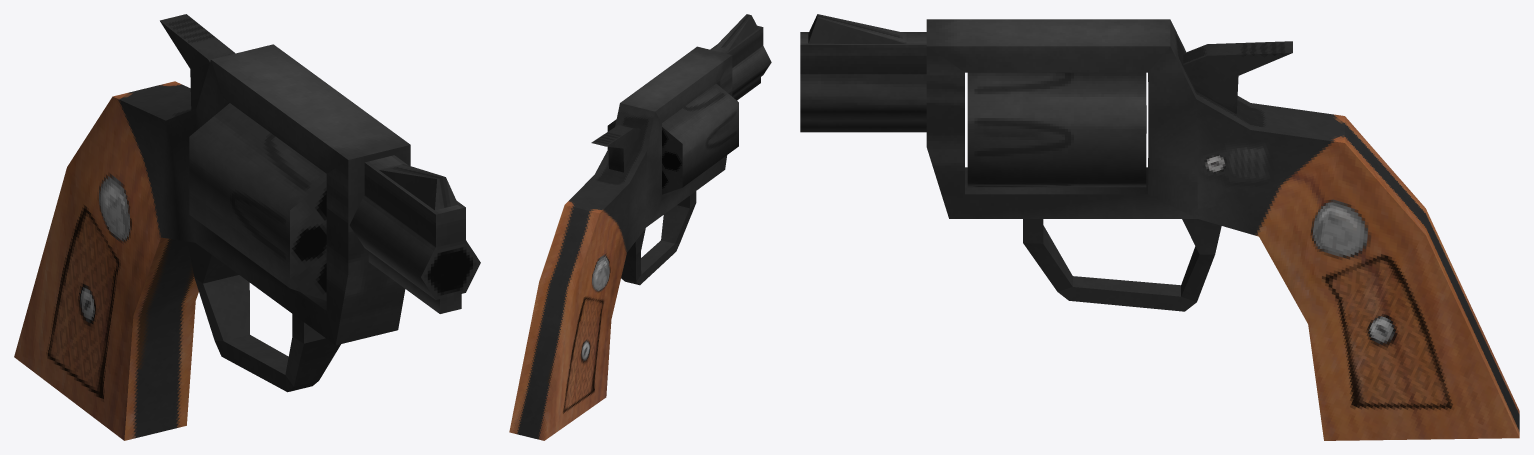
File: Revolver.fbx
The picture shows the model from 3 angles, left to right: view 1: azimuth 30°, elevation 25°; view 2: azimuth 150°, elevation 25°; view 3: azimuth 270°, elevation 25°; orthographic projection. The views are drawn at different scales.
Parts seen in each view (by area): view 1: Revolver; view 2: Revolver; view 3: Revolver.
Part boxes in pixels (box(x1,y1,x2,y2)): Revolver: box(14, 14, 480, 440); Revolver: box(509, 14, 771, 440); Revolver: box(800, 14, 1519, 440).
Bounding box in the file's own units: 8.03 × 42.43 × 26.79.
Materials: 1 (1 with a texture image).
